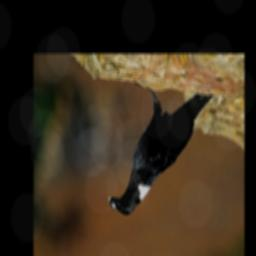Crow: (107, 81, 214, 217)
